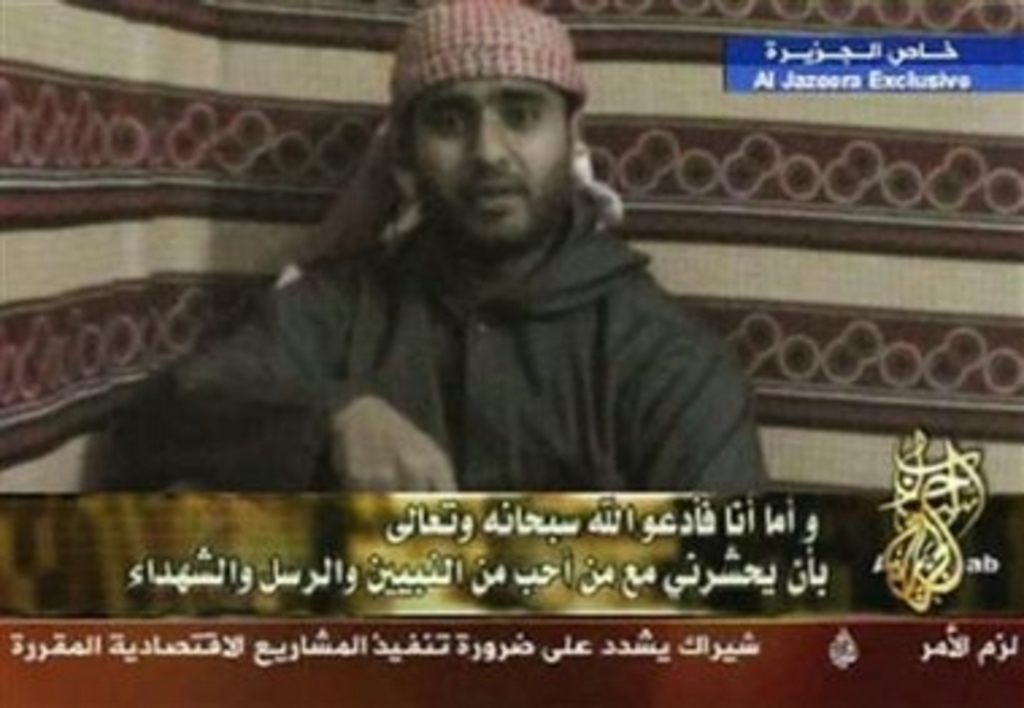face: (412, 42, 572, 238)
